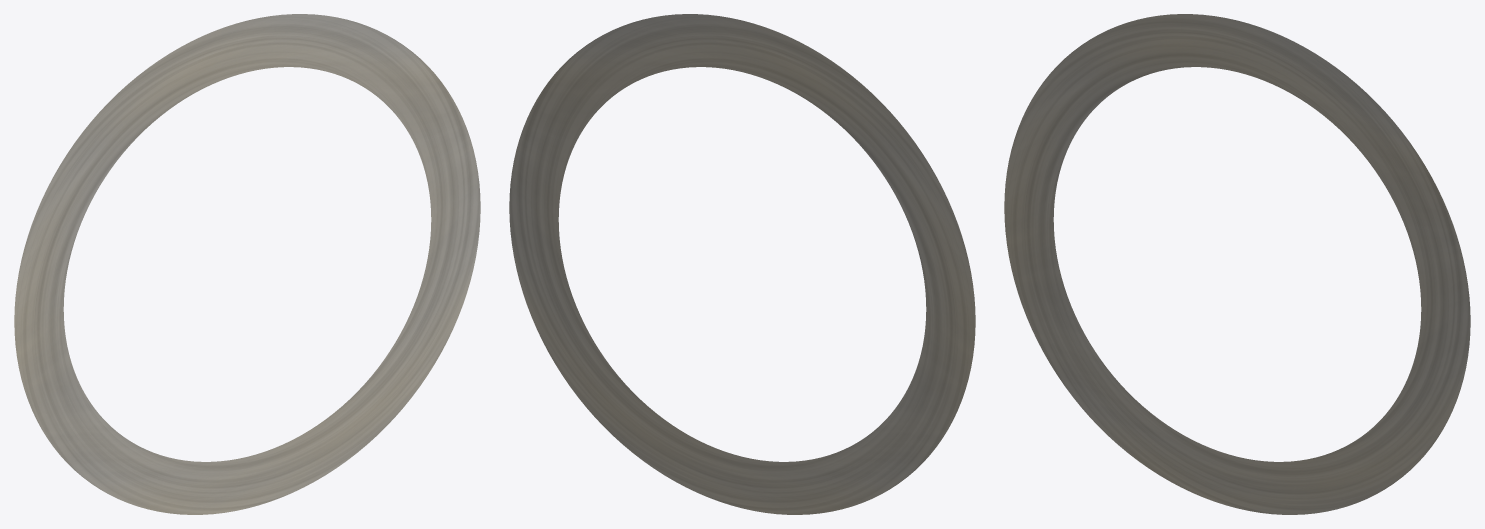
The model's file is Rings.fbx.
The picture shows the model from 3 angles, left to right: view 1: azimuth 30°, elevation 25°; view 2: azimuth 150°, elevation 25°; view 3: azimuth 330°, elevation 25°; orthographic projection.
Parts seen in each view (by area): view 1: Circle; view 2: Circle; view 3: Circle.
Boxes of the visible parts, <box> form: Circle: <box>14,14,480,514</box>; Circle: <box>509,14,975,514</box>; Circle: <box>1004,14,1470,514</box>.
Bounding box in the file's own units: 199 × 199 × 0.000232.
